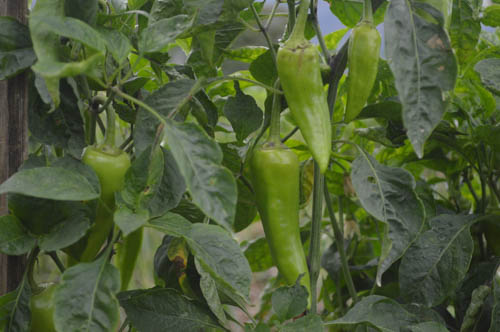ChiliPepper: (250, 148, 312, 290), (276, 42, 335, 171), (72, 150, 130, 269), (342, 28, 379, 127)
